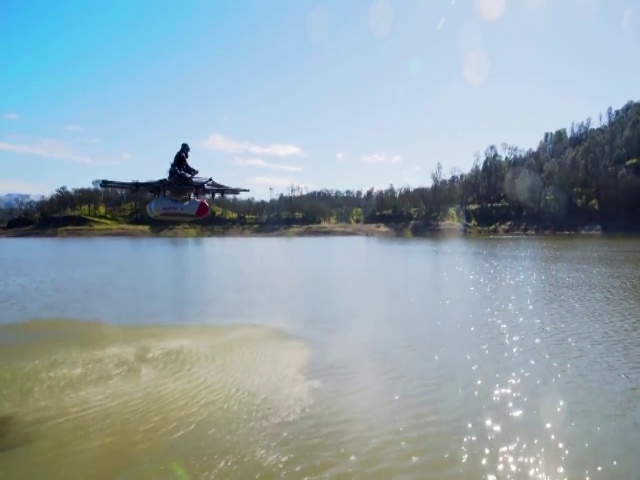drone: (96, 177, 253, 221)
